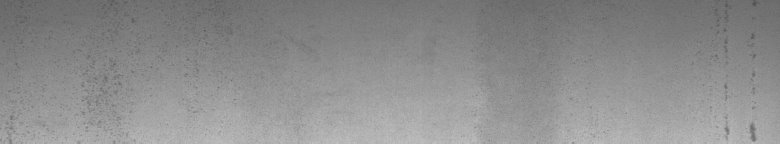ib: (6, 14, 138, 132)
